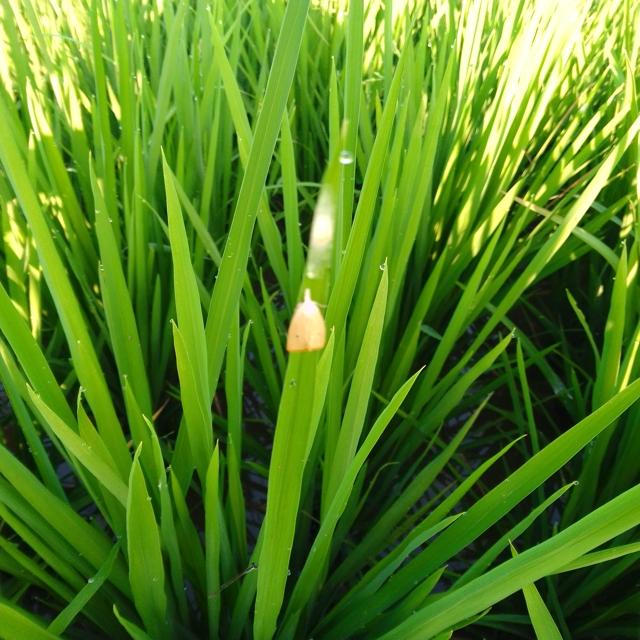Narrow brown: (269, 255, 347, 380)
